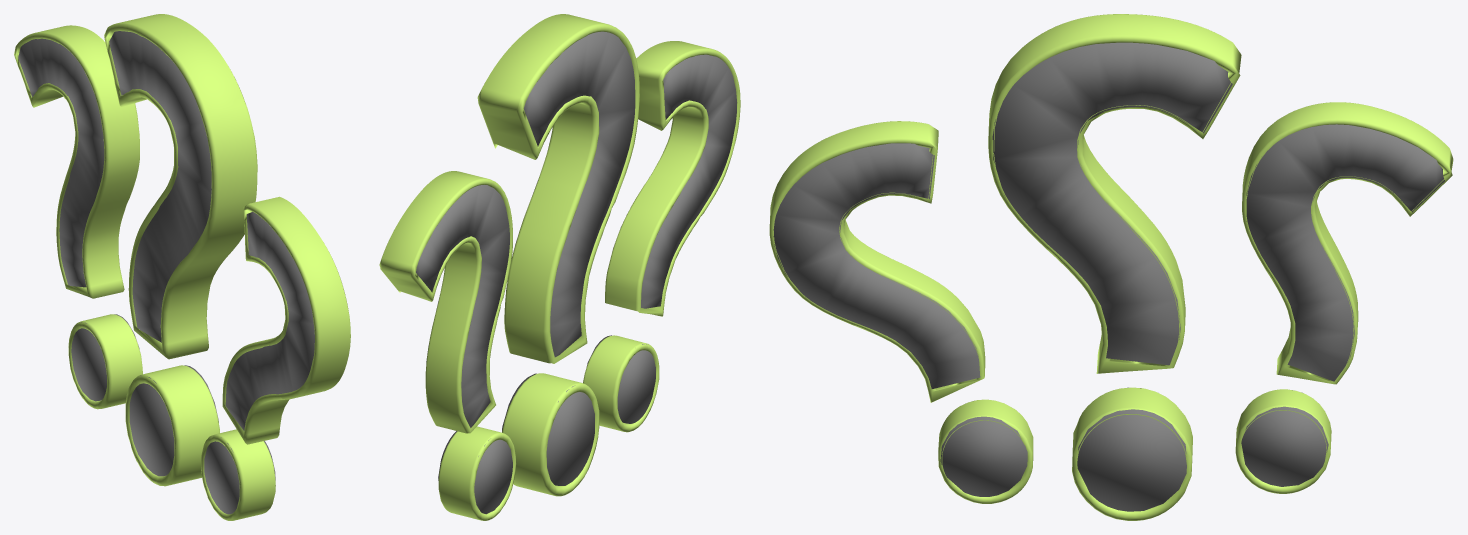
Rendered from Carta_Pregunta.glb.
3 views of the same model, side by side, from view 1: azimuth 30°, elevation 25°; view 2: azimuth 150°, elevation 25°; view 3: azimuth 270°, elevation 25° (orthographic). The views are drawn at different scales.
Visible parts, largest first — view 1: prim5, prim4, prim3, prim1, prim0, prim2; view 2: prim5, prim4, prim3, prim1, prim2, prim0; view 3: prim4, prim0, prim2, prim5, prim1, prim3.
Part boxes in pixels (x1=…): prim5: x1=104, y1=14, x2=257, y2=486; prim4: x1=109, y1=31, x2=218, y2=476; prim3: x1=14, y1=25, x2=142, y2=409; prim1: x1=201, y1=196, x2=350, y2=520; prim0: x1=204, y1=211, x2=314, y2=514; prim2: x1=18, y1=38, x2=139, y2=401; prim5: x1=477, y1=14, x2=639, y2=496; prim4: x1=502, y1=31, x2=635, y2=485; prim3: x1=379, y1=171, x2=516, y2=520; prim1: x1=583, y1=41, x2=740, y2=432; prim2: x1=416, y1=185, x2=512, y2=514; prim0: x1=586, y1=54, x2=737, y2=423; prim4: x1=992, y1=42, x2=1232, y2=511; prim0: x1=773, y1=143, x2=1027, y2=496; prim2: x1=1241, y1=124, x2=1444, y2=486; prim5: x1=988, y1=14, x2=1241, y2=520; prim1: x1=769, y1=121, x2=1033, y2=503; prim3: x1=1235, y1=102, x2=1453, y2=493.
Size of the model in its own units: 0.0913 by 0.8195 by 1.04.
